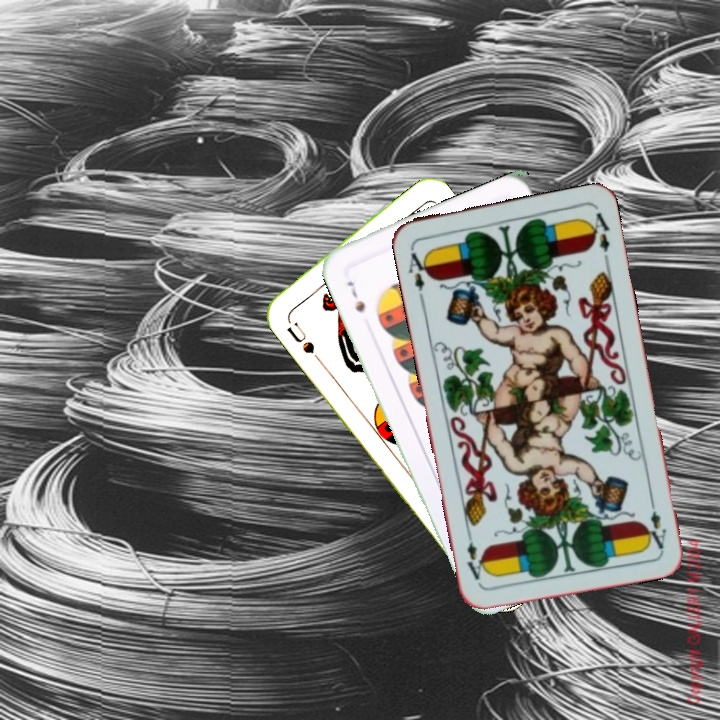EA: (404, 244, 434, 303), (642, 493, 669, 552)
S7: (342, 277, 368, 315)
SU: (282, 318, 318, 357)
